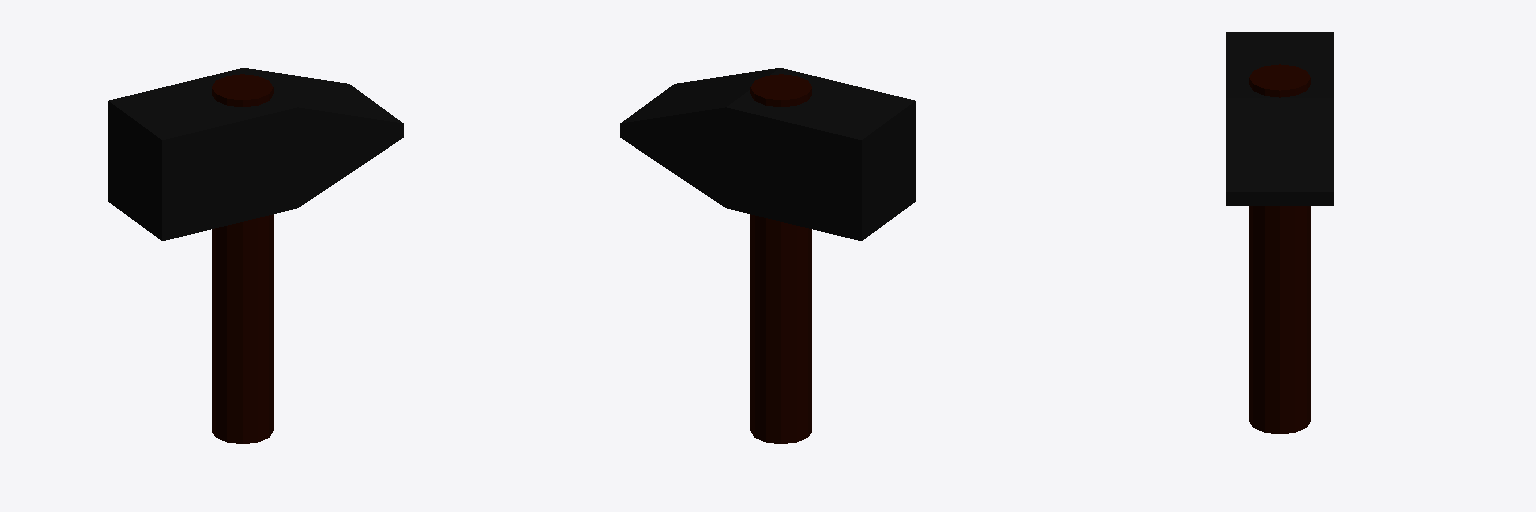
Rendered from Hammer.obj.
3 views of the same model, side by side, from view 1: azimuth 30°, elevation 25°; view 2: azimuth 150°, elevation 25°; view 3: azimuth 270°, elevation 25° (orthographic).
Parts seen in each view (by area): view 1: pCylinder1; view 2: pCylinder1; view 3: pCylinder1.
Boxes of the visible parts, x1,y1,x2,y2 form: pCylinder1: [108, 68, 403, 443]; pCylinder1: [620, 68, 915, 443]; pCylinder1: [1226, 32, 1333, 433].
Bounding box in the file's own units: 0.18 × 0.245 × 0.07.